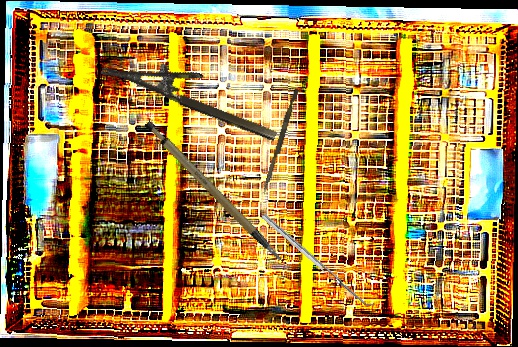Needle Holder: (100, 39, 287, 143)
Pusher: (262, 88, 299, 195)
Scalpel Handle: (141, 105, 284, 280)
Spatula Surgical: (261, 209, 376, 311)
